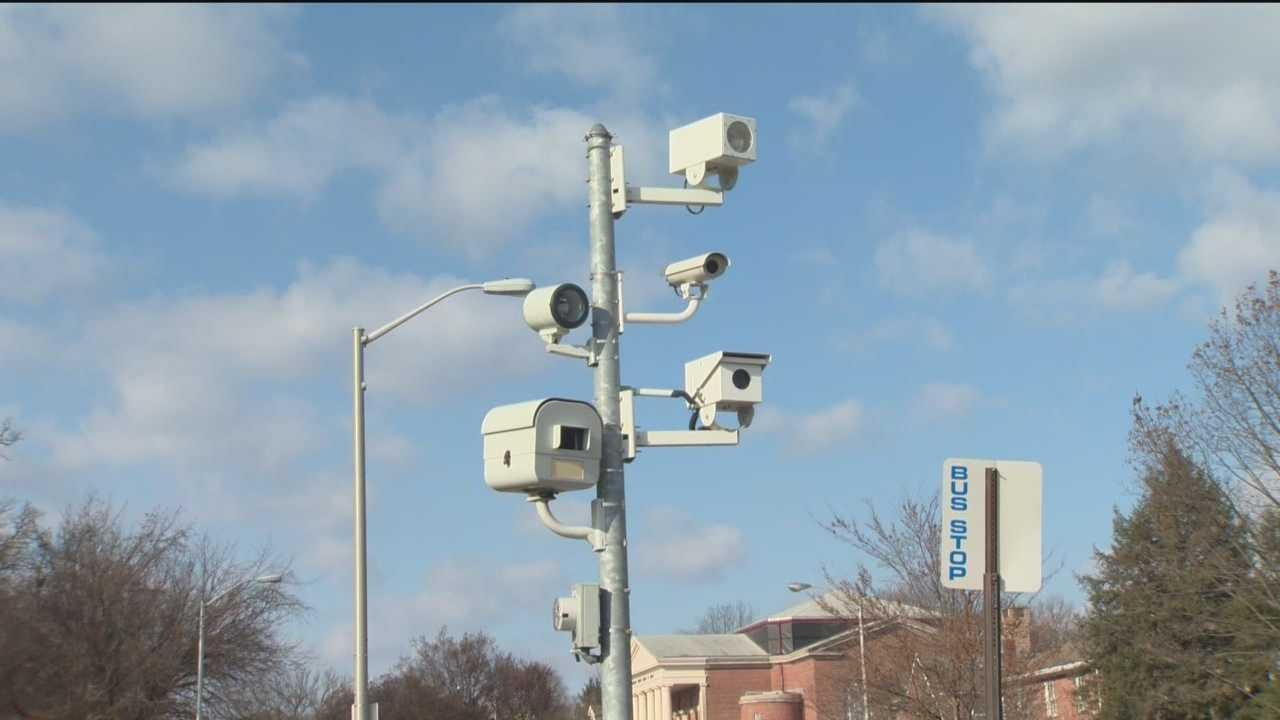Monitor: (480, 396, 603, 500), (673, 339, 790, 424), (667, 110, 757, 190), (509, 265, 594, 342), (643, 247, 736, 312)
